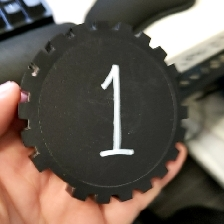gear: (16, 19, 189, 205)
missing: (29, 148, 89, 202)
